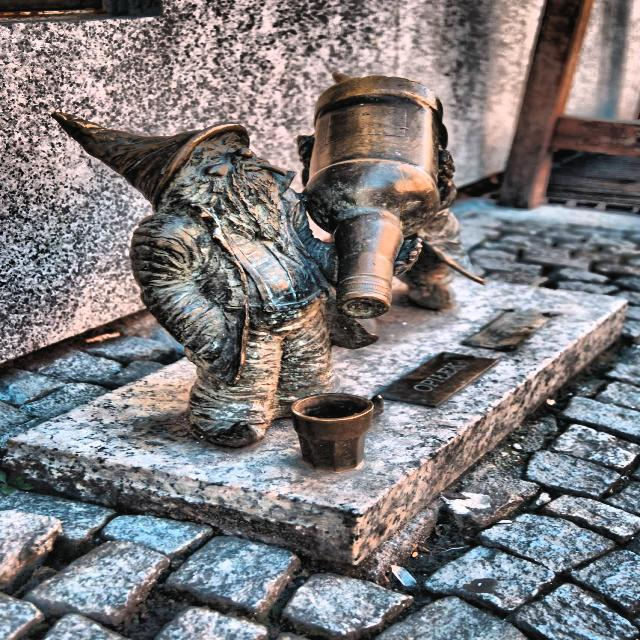Ogorzalek_i_Opilek: (52, 75, 484, 448)
